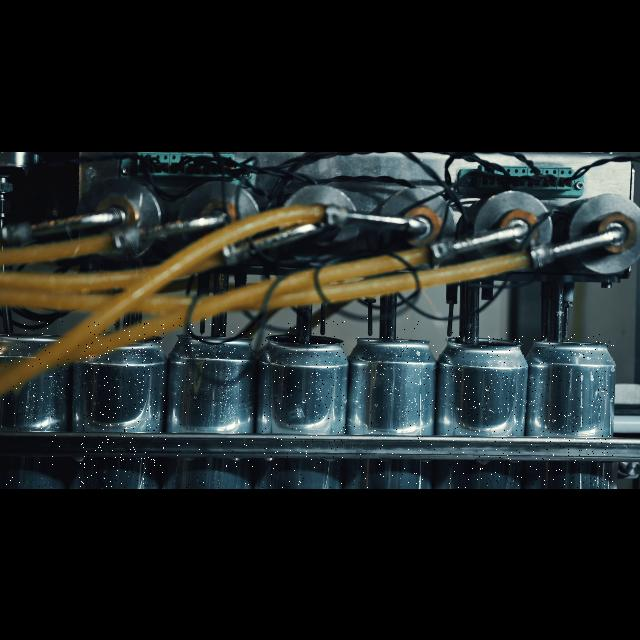empty: (78, 322, 166, 488), (353, 318, 437, 488), (262, 320, 346, 488), (172, 318, 254, 488), (530, 334, 614, 488), (444, 332, 524, 488), (3, 320, 69, 488)
